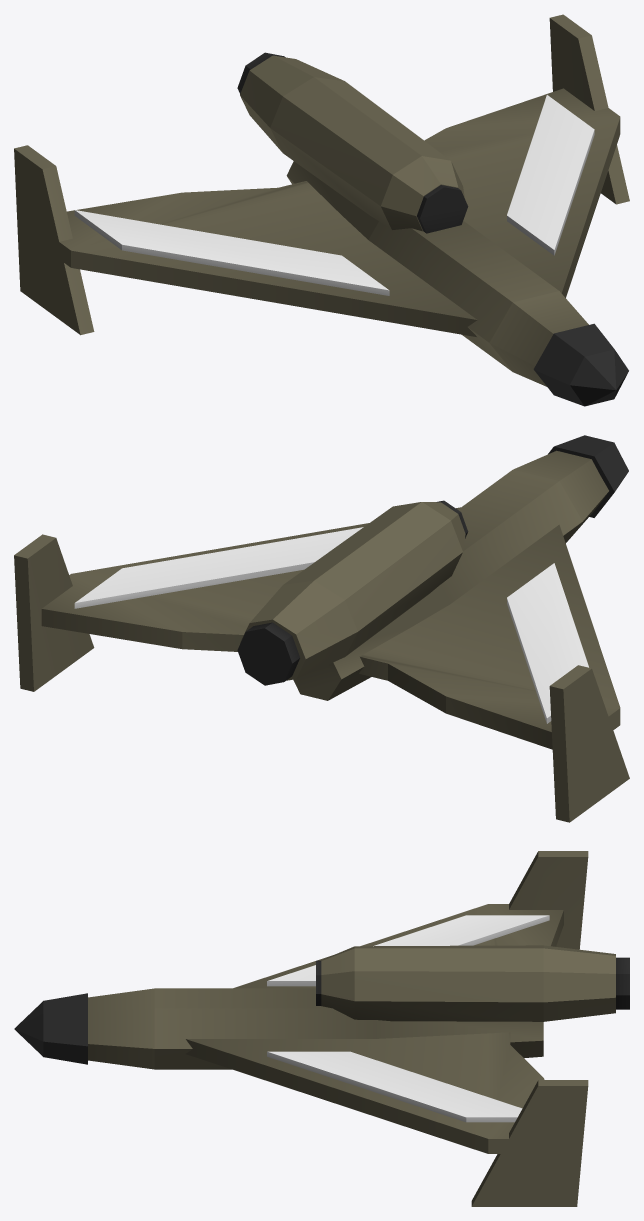
File: ru-geran-3.glb
3 renders of one model, top to bottom at view 1: azimuth 30°, elevation 25°; view 2: azimuth 150°, elevation 25°; view 3: azimuth 270°, elevation 25°, orthographic. The views are drawn at different scales.
Parts seen in each view (by area): view 1: ru-geran-3; view 2: ru-geran-3; view 3: ru-geran-3.
Boxes of the visible parts, x1,y1,x2,y2 form: ru-geran-3: (14,14,629,406); ru-geran-3: (14,435,629,822); ru-geran-3: (14,851,629,1206).
Size of the model in its own units: 1 by 0.28 by 1.11.
